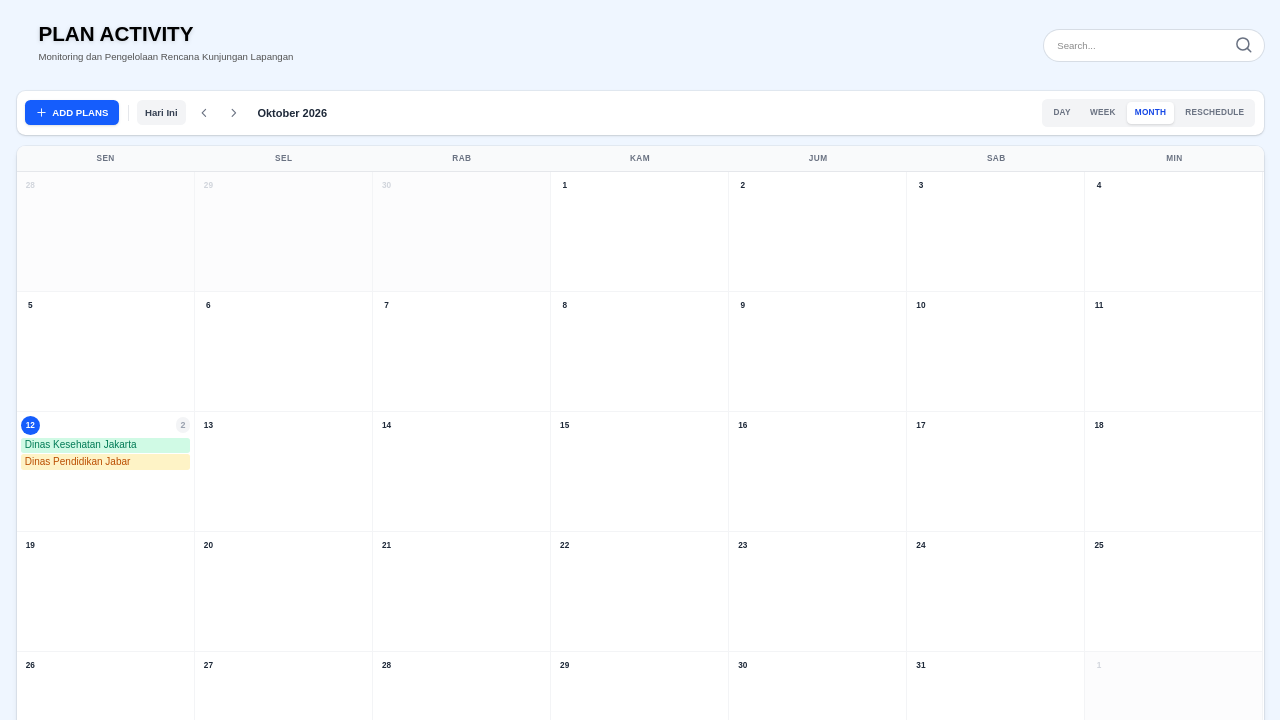
it: PlanActivityPage › defaults to Month view and switches to Day view when tab clicked
The width and height of the screenshot is (1280, 720).
What coordinates should you click on to do the following:
click the button "Day"
I would click on:
 (1062, 113)
Its box is x1=1045 y1=102 x2=1079 y2=124.
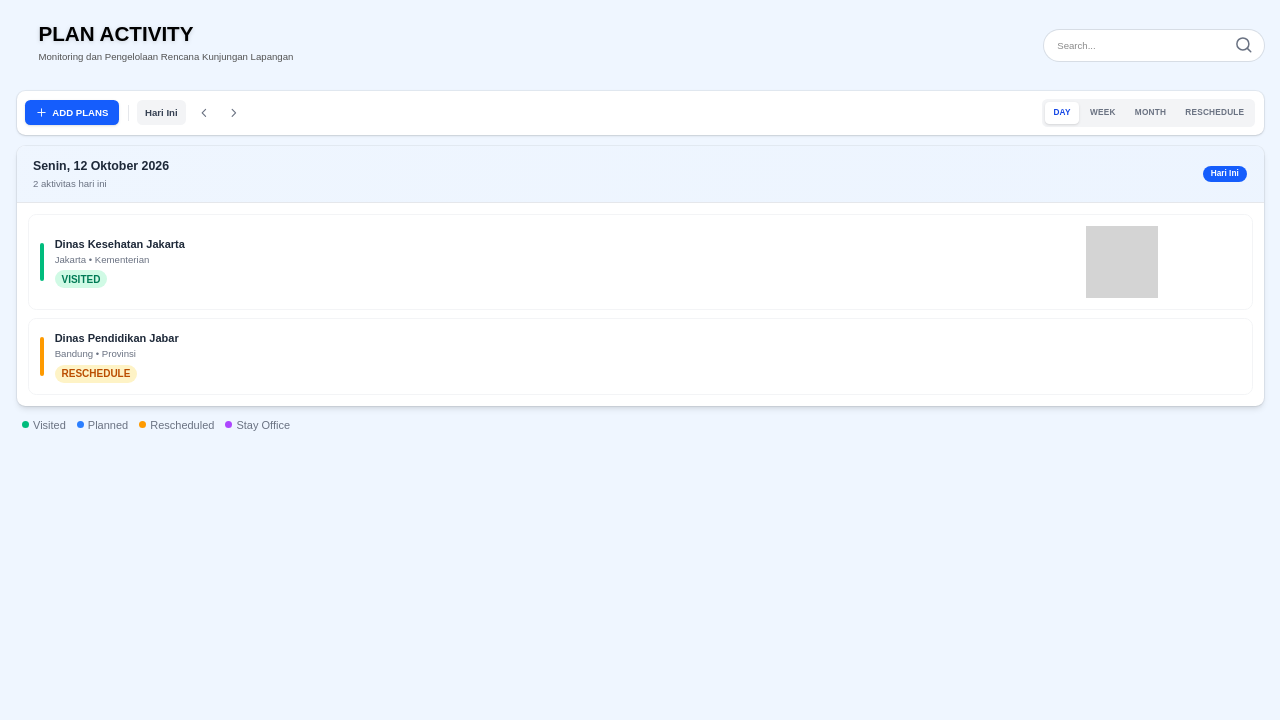
Result: the text "2 aktivitas hari ini" is shown at x1=33 y1=178 x2=107 y2=189
